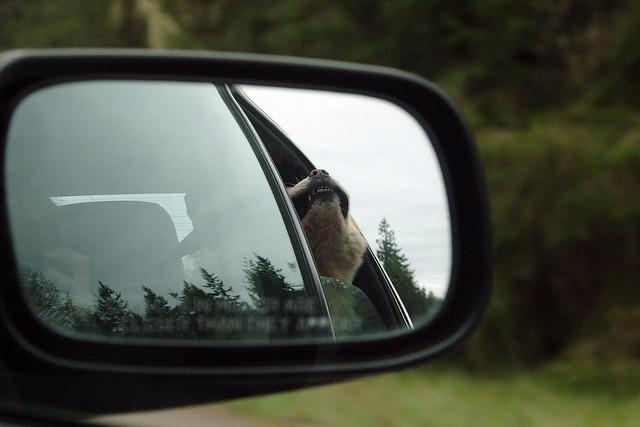car: (0, 50, 497, 427)
